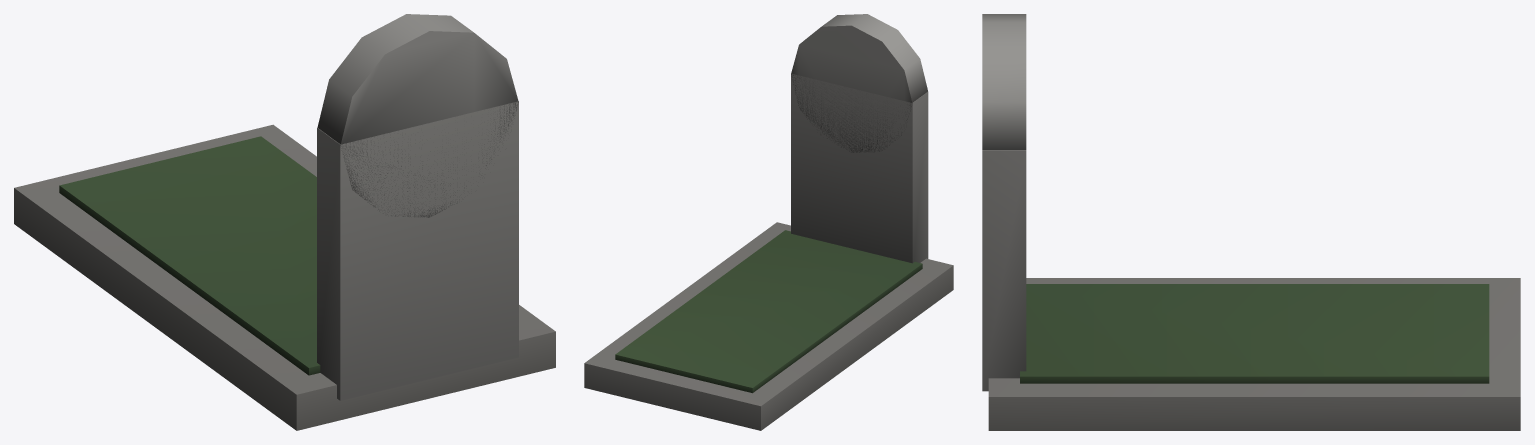
Rendered from grabstein.glb.
3 views of the same model, side by side, from view 1: azimuth 30°, elevation 25°; view 2: azimuth 150°, elevation 25°; view 3: azimuth 270°, elevation 25° (orthographic). The views are drawn at different scales.
Visible parts, largest first — view 1: lack; view 2: lack; view 3: lack.
Part boxes in pixels (x1,y1,x2,y2): lack: [14, 14, 555, 430]; lack: [584, 14, 953, 430]; lack: [982, 14, 1520, 430].
Size of the model in its own units: 0.9 by 1.23 by 1.72.
